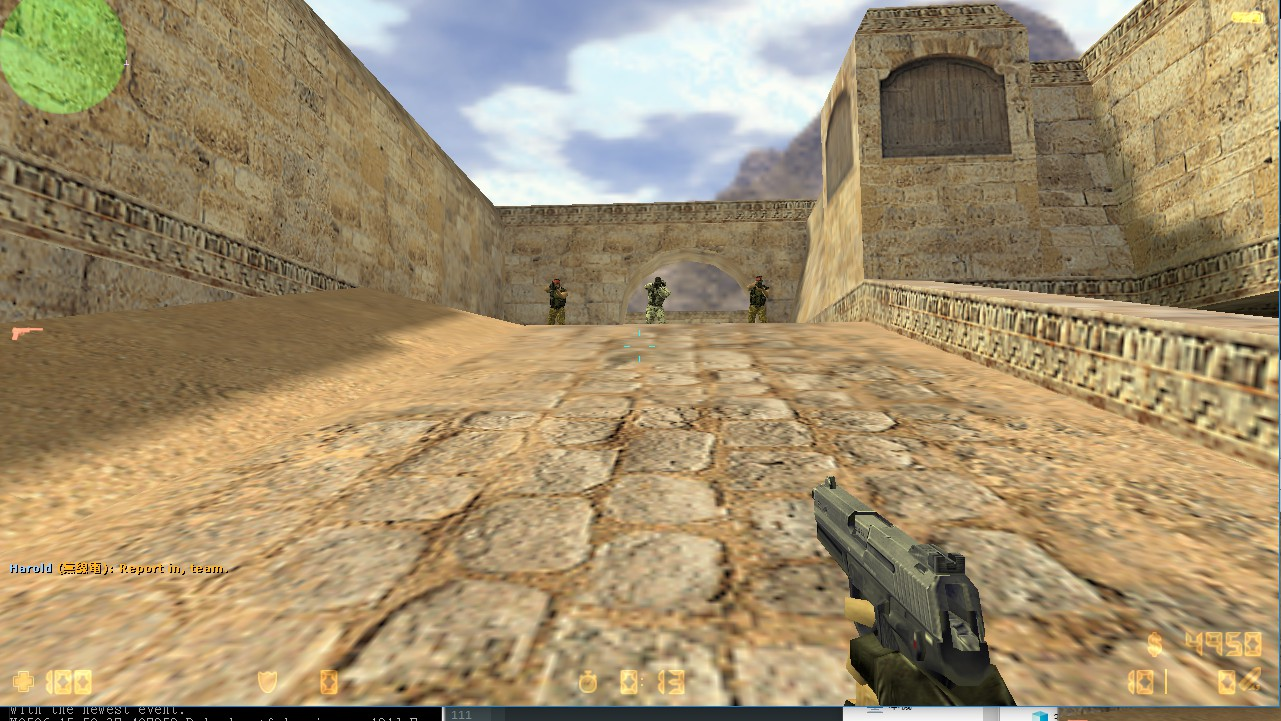person: (743, 272, 772, 323), (543, 274, 569, 326), (644, 276, 669, 323)
